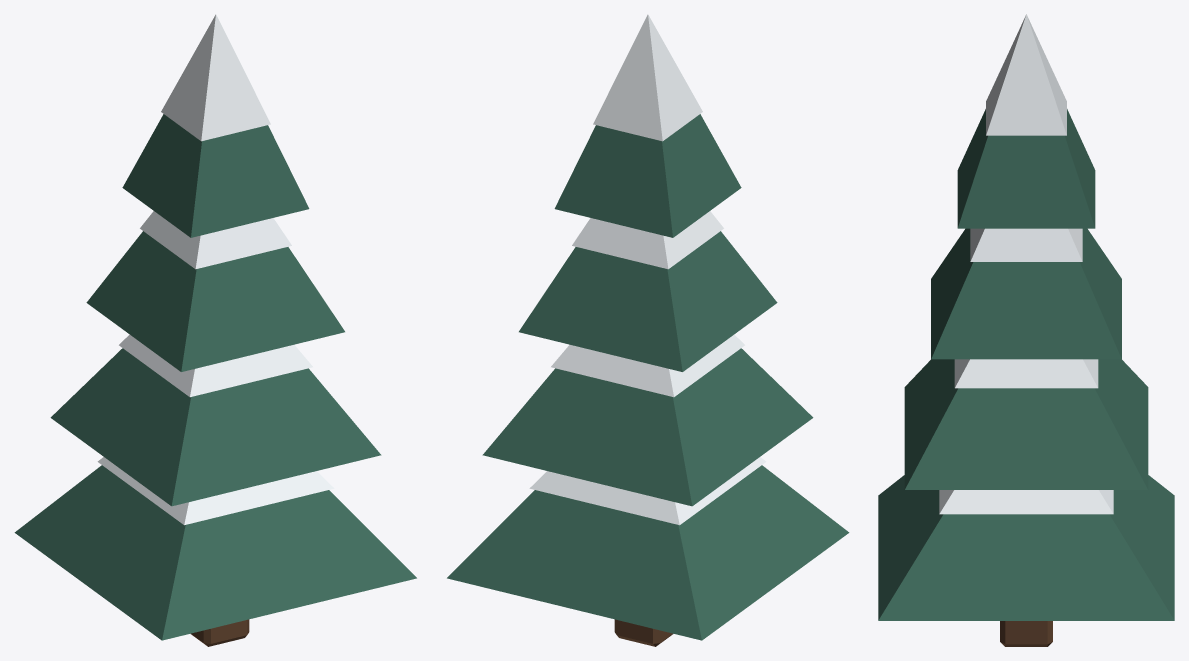
Rendered from env_r2_pine_snow_tall.glb.
The picture shows the model from 3 angles, left to right: view 1: azimuth 30°, elevation 25°; view 2: azimuth 150°, elevation 25°; view 3: azimuth 270°, elevation 25°; orthographic projection.
Parts seen in each view (by area): view 1: env_r2_pine_snow_tall; view 2: env_r2_pine_snow_tall; view 3: env_r2_pine_snow_tall.
Part boxes in pixels (x1,y1,x2,y2): env_r2_pine_snow_tall: [14, 14, 416, 646]; env_r2_pine_snow_tall: [447, 14, 849, 646]; env_r2_pine_snow_tall: [878, 14, 1174, 646].
Bounding box in the file's own units: 2.8 × 6.5 × 2.8.
Materials: 1 (1 with a texture image).
